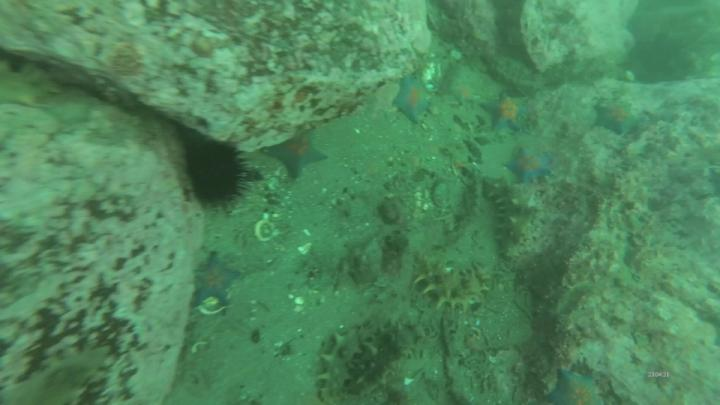echinus: (187, 149, 241, 208)
holothurian: (363, 327, 432, 399), (487, 183, 543, 256), (419, 261, 489, 308), (315, 332, 362, 401)
scallop: (424, 63, 445, 93), (202, 296, 224, 315)
starfish: (267, 139, 329, 180), (198, 258, 240, 307), (549, 372, 600, 405), (485, 95, 530, 131), (395, 81, 431, 125), (511, 150, 553, 183), (597, 102, 640, 134)
